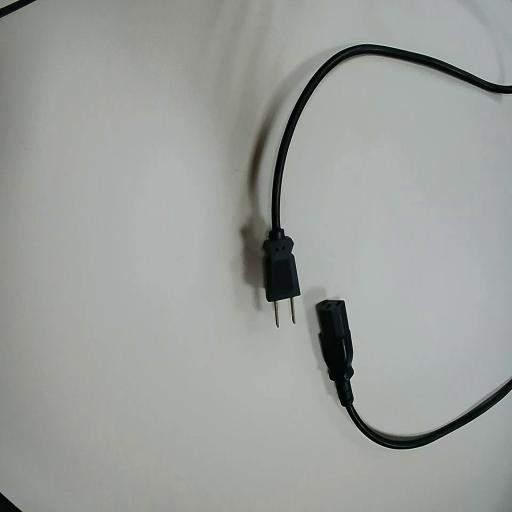wire: (261, 45, 511, 301), (317, 301, 511, 447)
